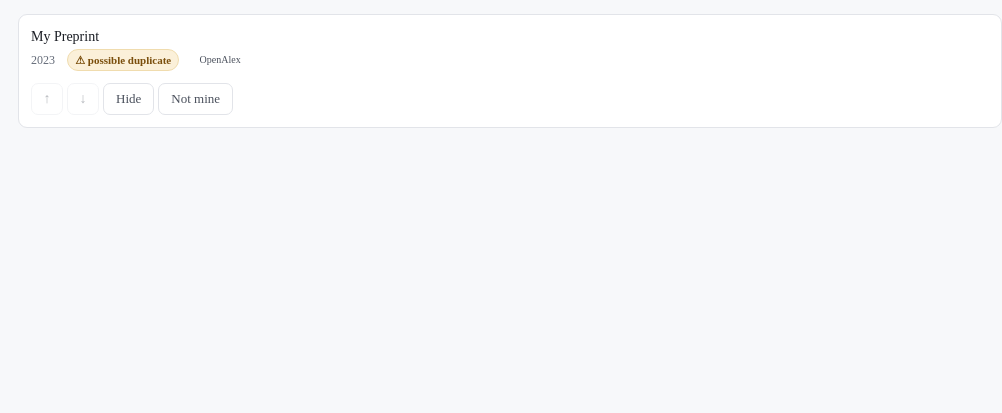
ItemRow — duplicate comparison › expands to show the full facts of EVERY member of a 3-item group
The image size is (1002, 413).
Step 1. Click the button "⚠ possible duplicate" → point(123, 60), box [67,49,179,71]
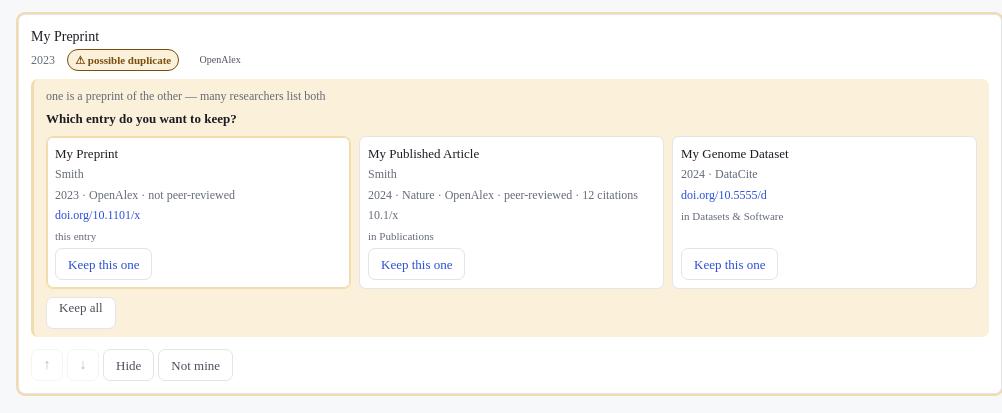
Expected: the text "My Published Article" is shown, [368,146,479,161]
Expected: the text "My Genome Dataset" is shown, [681,146,789,161]
Expected: the text "2024 · Nature · OpenAlex · peer-reviewed · 12 citations" is shown, [368,186,655,204]
